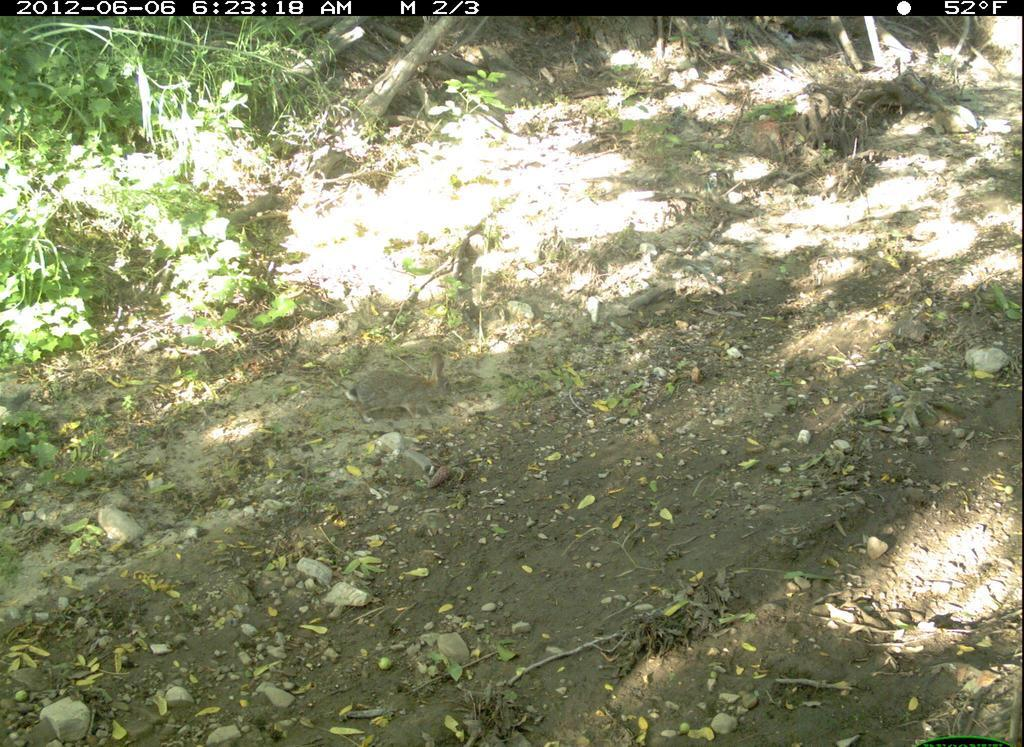rabbit: (347, 346, 461, 425)
